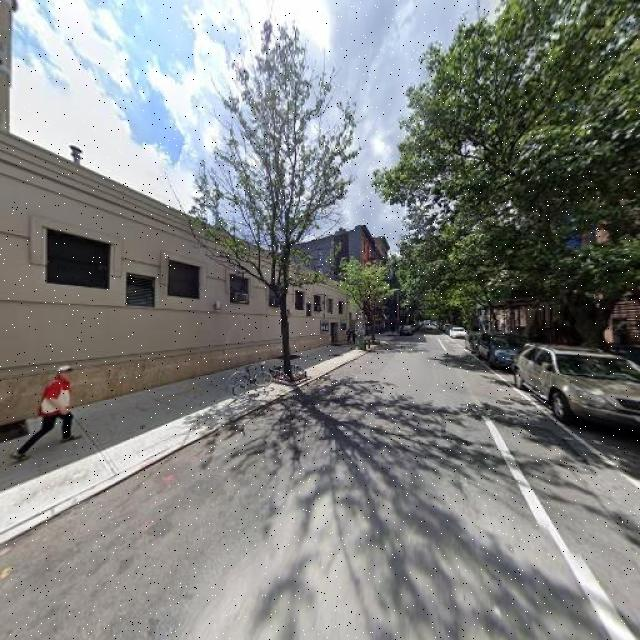Building: (1, 139, 348, 419)
